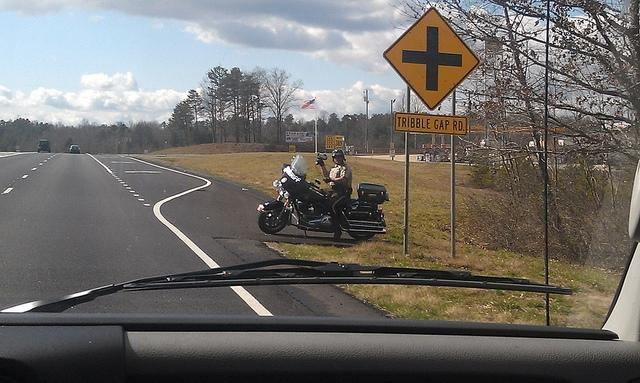car: (37, 139, 51, 153), (68, 144, 80, 154)
motorcycle: (256, 156, 387, 241)
